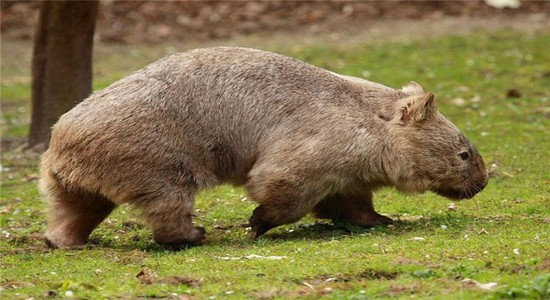Wombat: (32, 44, 488, 251)
